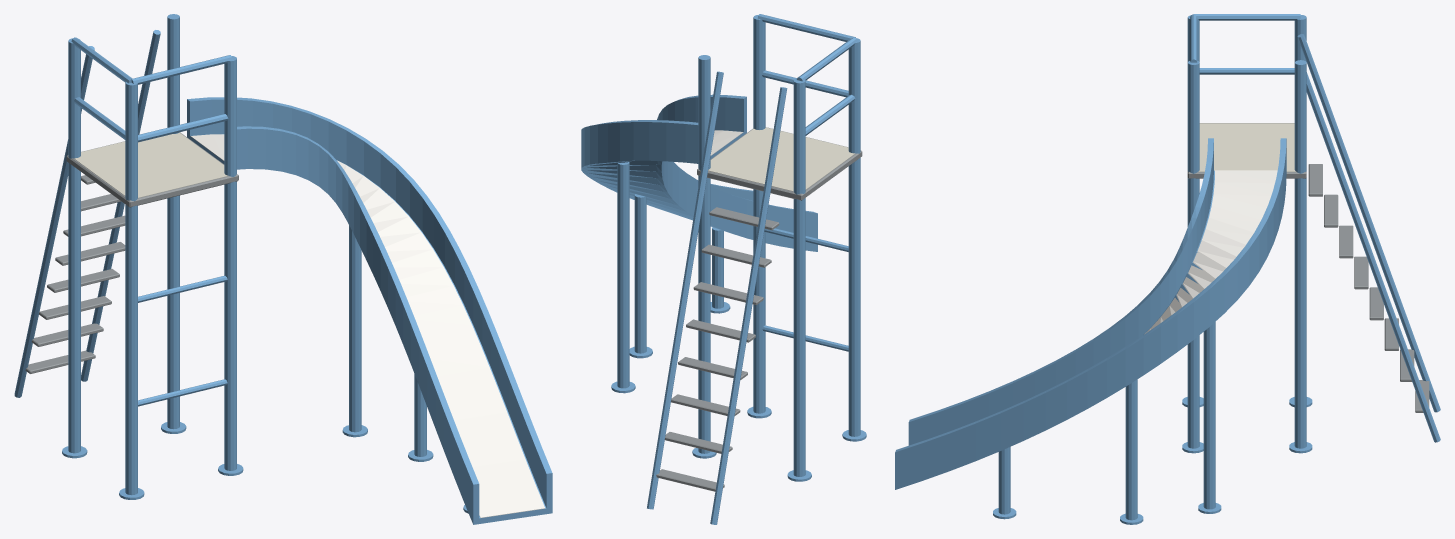
File: water_slide.glb
The picture shows the model from 3 angles, left to right: view 1: azimuth 30°, elevation 25°; view 2: azimuth 150°, elevation 25°; view 3: azimuth 270°, elevation 25°; orthographic projection. The views are drawn at different scales.
Parts seen in each view (by area): view 1: water_slide_blue_p, water_slide_white_u, water_slide_grip, water_slide_steel; view 2: water_slide_blue_p, water_slide_steel, water_slide_grip, water_slide_white_u; view 3: water_slide_blue_p, water_slide_white_u, water_slide_grip, water_slide_steel.
Boxes of the visible parts, left/top/right/bottom form: water_slide_blue_p: left=14, top=14, right=552, bottom=524; water_slide_white_u: left=190, top=134, right=545, bottom=517; water_slide_grip: left=74, top=132, right=228, bottom=197; water_slide_steel: left=25, top=132, right=238, bottom=373; water_slide_blue_p: left=581, top=14, right=866, bottom=524; water_slide_steel: left=656, top=127, right=862, bottom=491; water_slide_grip: left=708, top=127, right=855, bottom=191; water_slide_white_u: left=710, top=130, right=743, bottom=155; water_slide_blue_p: left=895, top=14, right=1440, bottom=524; water_slide_white_u: left=1144, top=170, right=1277, bottom=334; water_slide_grip: left=1198, top=123, right=1296, bottom=171; water_slide_steel: left=1187, top=123, right=1429, bottom=412.
Bounding box in the file's own units: 2.76 × 3.62 × 4.59.
